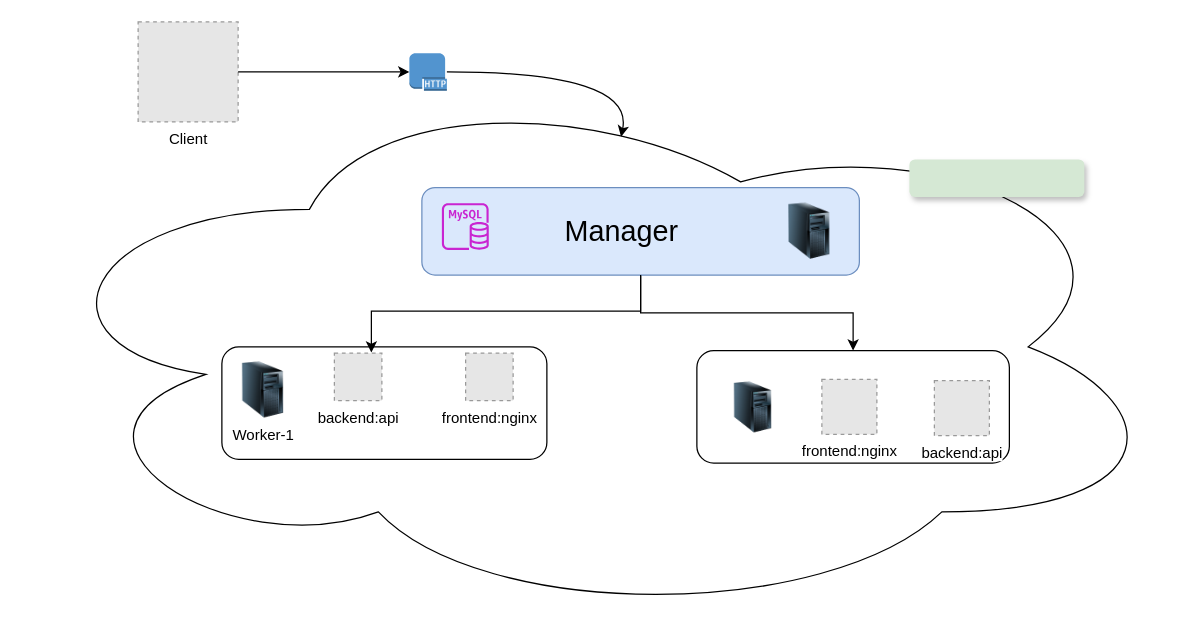
Some shapes in this 1194 by 644 pixel diagram are drawn without their labels. Grey dashed boxes stand in for pictures. Here are the shapes that lost their labels. From the top down, the centre of each, then its label:
At [997,179]: "Overlay2".
At [464,225]: "mysql:8.0".
At [752,407]: "Worker-2".
